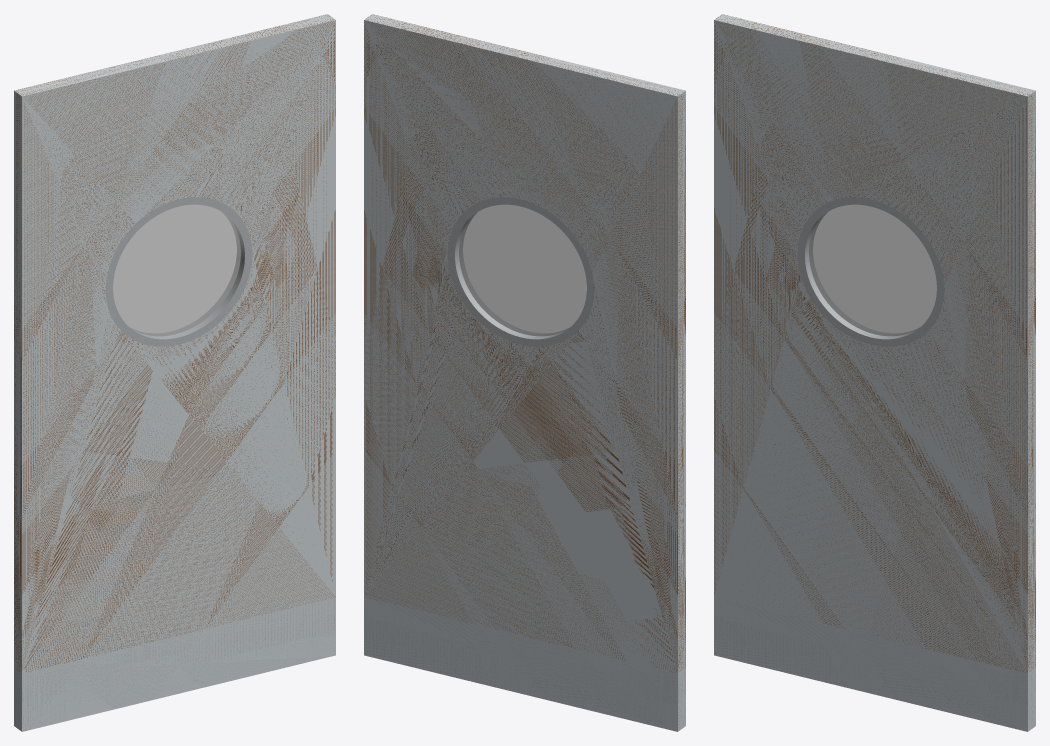
The model's file is board.dae.
3 renders of one model, left to right at view 1: azimuth 30°, elevation 25°; view 2: azimuth 150°, elevation 25°; view 3: azimuth 330°, elevation 25°, orthographic.
Parts seen in each view (by area): view 1: group_5.003, group_5.001, group_4.002, group_3.015, group_3.017; view 2: group_5.003, group_5.001, group_4.002, group_3.015, group_3.017; view 3: group_5.003, group_5.001, group_4.002, group_3.015, group_3.017.
Part boxes in pixels (x1,y1,x2,y2): group_5.003: (14,14,335,673); group_5.001: (14,597,335,731); group_4.002: (113,204,240,336); group_3.015: (105,197,252,346); group_3.017: (131,213,244,339); group_5.003: (364,14,685,673); group_5.001: (364,597,685,731); group_4.002: (459,204,586,336); group_3.015: (447,197,594,346); group_3.017: (455,213,568,339); group_5.003: (714,14,1035,673); group_5.001: (714,597,1035,731); group_4.002: (809,204,936,336); group_3.015: (797,197,944,346); group_3.017: (805,213,918,339).
Bounding box in the file's own units: 1.12 × 0.05 × 2.16.
Materials: 5 (3 with a texture image).
